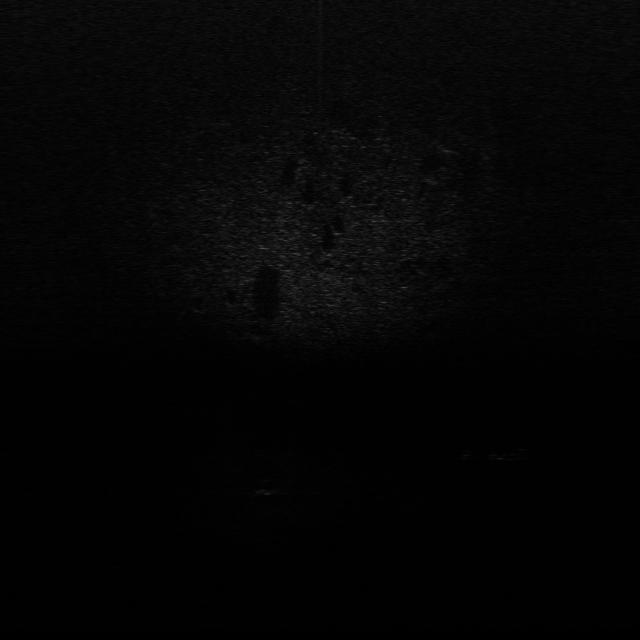ball: (250, 477, 284, 500)
human body: (457, 439, 542, 469)
